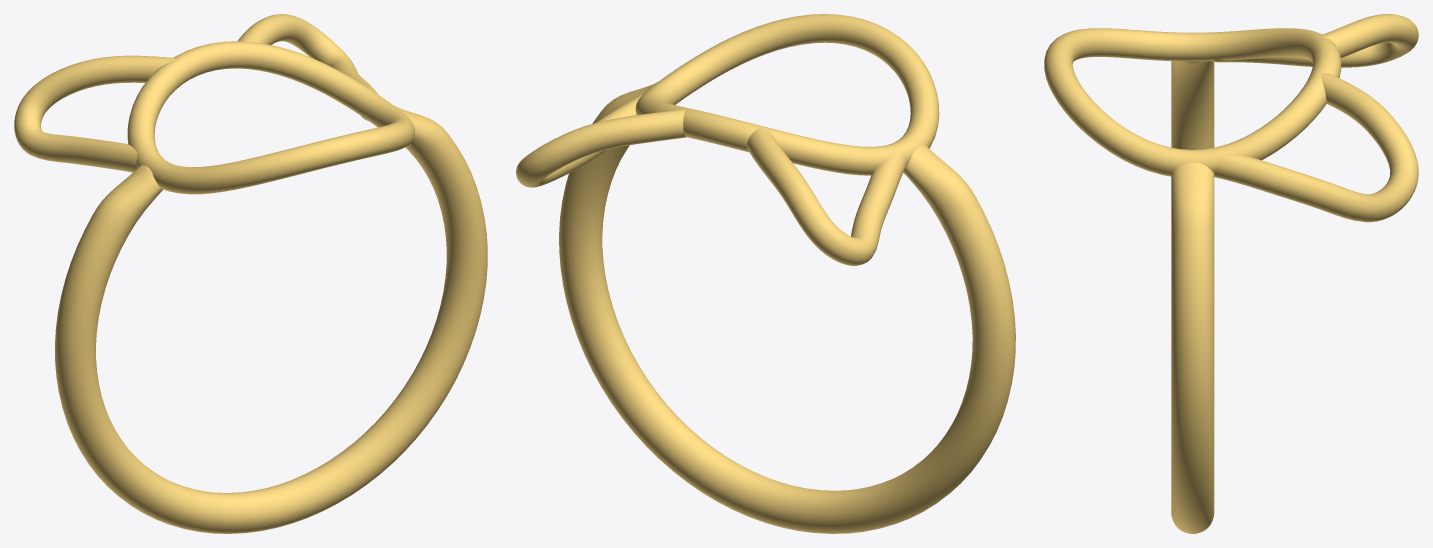
File: jadeBcat_webgi.glb
3 renders of one model, left to right at view 1: azimuth 30°, elevation 25°; view 2: azimuth 150°, elevation 25°; view 3: azimuth 270°, elevation 25°, orthographic. The views are drawn at different scales.
Visible parts, largest first — view 1: JadeB_Cat_Ring; view 2: JadeB_Cat_Ring; view 3: JadeB_Cat_Ring.
Boxes of the visible parts, bbox=[...] form: JadeB_Cat_Ring: bbox=[14, 14, 487, 533]; JadeB_Cat_Ring: bbox=[516, 14, 1015, 533]; JadeB_Cat_Ring: bbox=[1044, 14, 1418, 533].
Bounding box in the file's own units: 2.55 × 2.48 × 1.84.
